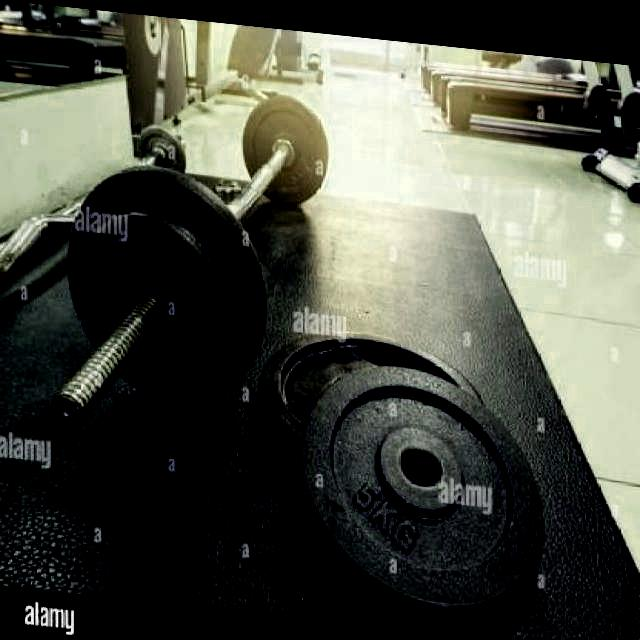barbell: (39, 146, 272, 452)
